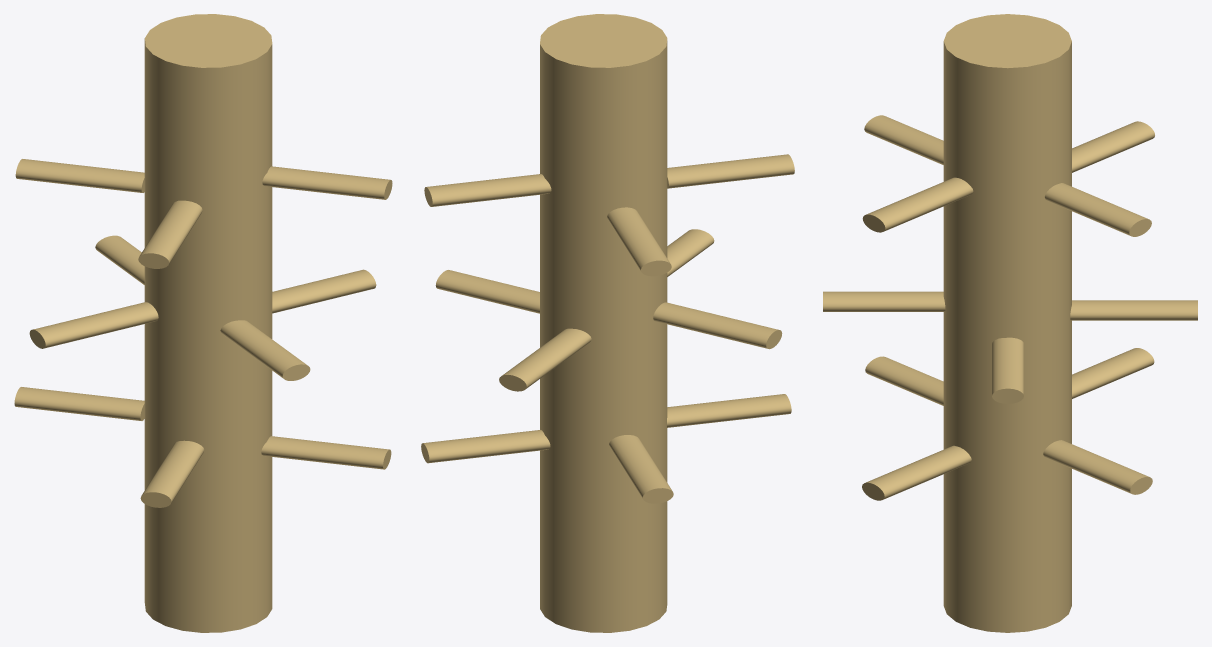
File: Tree.fbx
3 renders of one model, left to right at view 1: azimuth 30°, elevation 25°; view 2: azimuth 150°, elevation 25°; view 3: azimuth 270°, elevation 25°, orthographic.
Visible parts, largest first — view 1: TreePost, Branch, Branch__4_, Branch__8_, Branch__10_, Branch__1_, Branch__7_, Branch__6_, Branch__11_, Branch__3_, Branch__5_; view 2: TreePost, Branch__4_, Branch__11_, Branch__2_, Branch__3_, Branch__9_, Branch__5_, Branch__8_, Branch, Branch__6_, Branch__7_; view 3: TreePost, Branch__5_, Branch__7_, Branch__10_, Branch__1_, Branch__2_, Branch__9_, Branch__6_, Branch__8_, Branch, Branch__11_, Branch__3_.
Boxes of the visible parts, left/top/right/bottom form: TreePost: left=144, top=14, right=272, bottom=632; Branch: left=14, top=387, right=144, bottom=420; Branch__4_: left=29, top=302, right=158, bottom=348; Branch__8_: left=15, top=159, right=144, bottom=192; Branch__10_: left=262, top=166, right=392, bottom=199; Branch__1_: left=261, top=436, right=391, bottom=469; Branch__7_: left=220, top=320, right=310, bottom=380; Branch__6_: left=272, top=269, right=376, bottom=313; Branch__11_: left=138, top=200, right=202, bottom=268; Branch__3_: left=140, top=440, right=204, bottom=507; Branch__5_: left=95, top=235, right=144, bottom=284; TreePost: left=540, top=14, right=667, bottom=632; Branch__4_: left=653, top=302, right=782, bottom=349; Branch__11_: left=667, top=154, right=794, bottom=188; Branch__2_: left=421, top=430, right=550, bottom=463; Branch__3_: left=667, top=394, right=791, bottom=427; Branch__9_: left=424, top=174, right=551, bottom=206; Branch__5_: left=499, top=328, right=591, bottom=391; Branch__8_: left=607, top=207, right=671, bottom=276; Branch: left=609, top=435, right=673, bottom=503; Branch__6_: left=435, top=270, right=539, bottom=313; Branch__7_: left=667, top=229, right=714, bottom=276; TreePost: left=943, top=14, right=1071, bottom=632; Branch__5_: left=1070, top=300, right=1197, bottom=320; Branch__7_: left=823, top=291, right=945, bottom=311; Branch__10_: left=862, top=177, right=973, bottom=232; Branch__1_: left=862, top=445, right=971, bottom=500; Branch__2_: left=1043, top=440, right=1152, bottom=494; Branch__9_: left=1045, top=183, right=1151, bottom=236; Branch__6_: left=992, top=337, right=1023, bottom=403; Branch__8_: left=1072, top=121, right=1154, bottom=172; Branch: left=1072, top=348, right=1154, bottom=398; Branch__11_: left=864, top=115, right=943, bottom=164; Branch__3_: left=865, top=356, right=943, bottom=405.
Size of the model in its own units: 2782 by 4545 by 2733.
